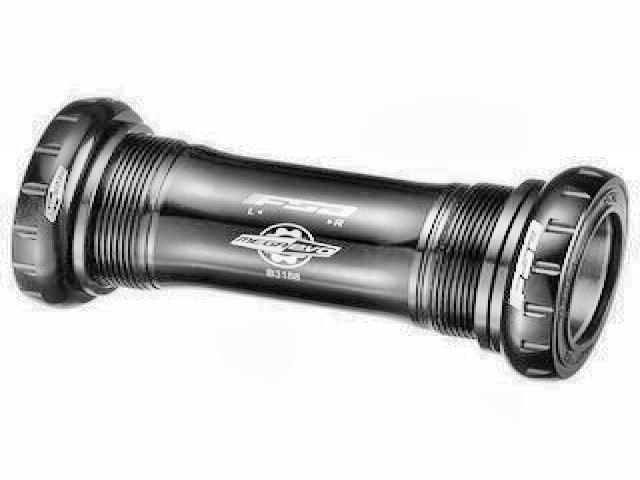bottom_bracket: (6, 95, 634, 386)
